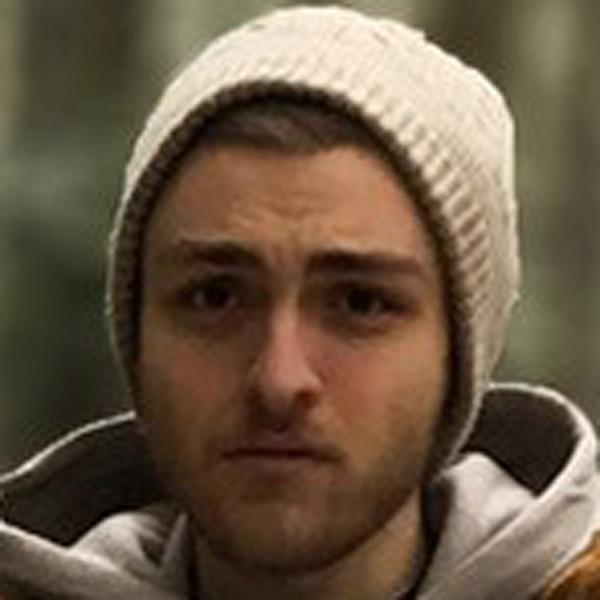Eyes: (170, 263, 258, 322), (320, 271, 402, 328)
